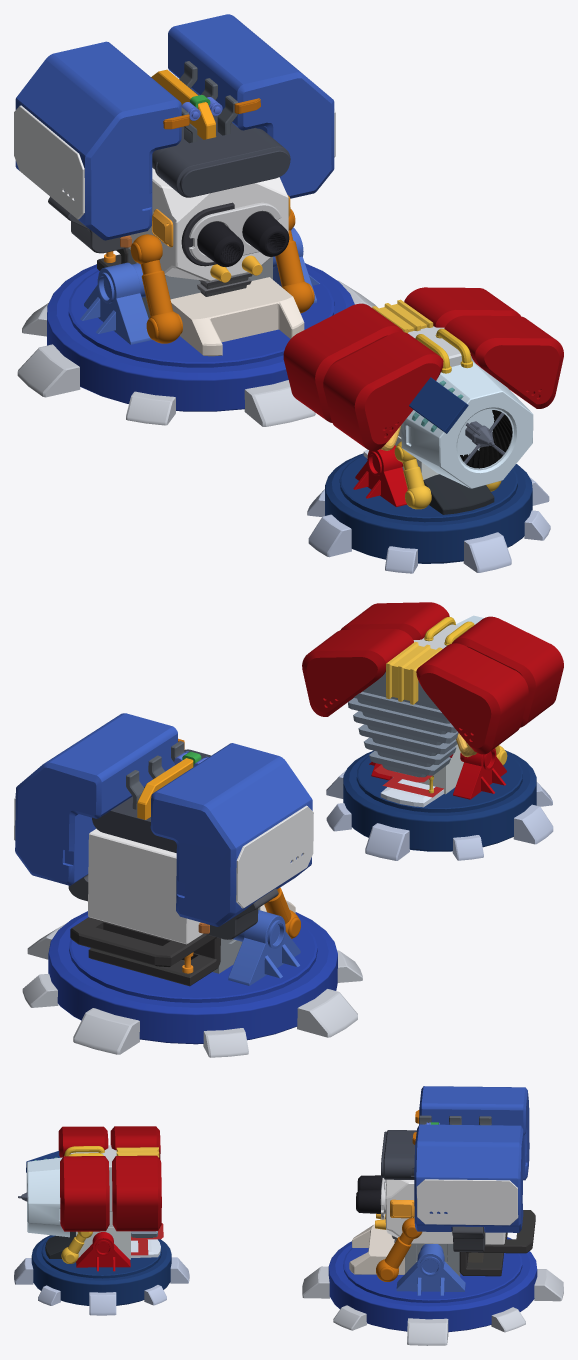
The model's file is Sub - Torret Water Set2.fbx.
3 renders of one model, top to bottom at view 1: azimuth 30°, elevation 25°; view 2: azimuth 150°, elevation 25°; view 3: azimuth 270°, elevation 25°, orthographic. The views are drawn at different scales.
Parts seen in each view (by area): view 1: Cube.049, Cube.045, Cylinder.035, Cylinder.037; view 2: Cube.049, Cube.045, Cylinder.035, Cylinder.037; view 3: Cube.049, Cube.045, Cylinder.035, Cylinder.037.
Boxes of the visible parts, x1=… form: Cube.049: x1=14, y1=14, x2=335, y2=356; Cube.045: x1=283, y1=287, x2=563, y2=514; Cylinder.035: x1=17, y1=263, x2=377, y2=426; Cylinder.037: x1=307, y1=453, x2=550, y2=573; Cube.049: x1=14, y1=713, x2=313, y2=986; Cube.045: x1=302, y1=602, x2=563, y2=807; Cylinder.035: x1=22, y1=911, x2=362, y2=1057; Cylinder.037: x1=326, y1=750, x2=553, y2=860; Cube.049: x1=349, y1=1086, x2=535, y2=1295; Cube.045: x1=18, y1=1126, x2=163, y2=1271; Cylinder.035: x1=302, y1=1237, x2=563, y2=1345; Cylinder.037: x1=14, y1=1235, x2=189, y2=1315.
Size of the model in its own units: 664 by 503 by 1395.
